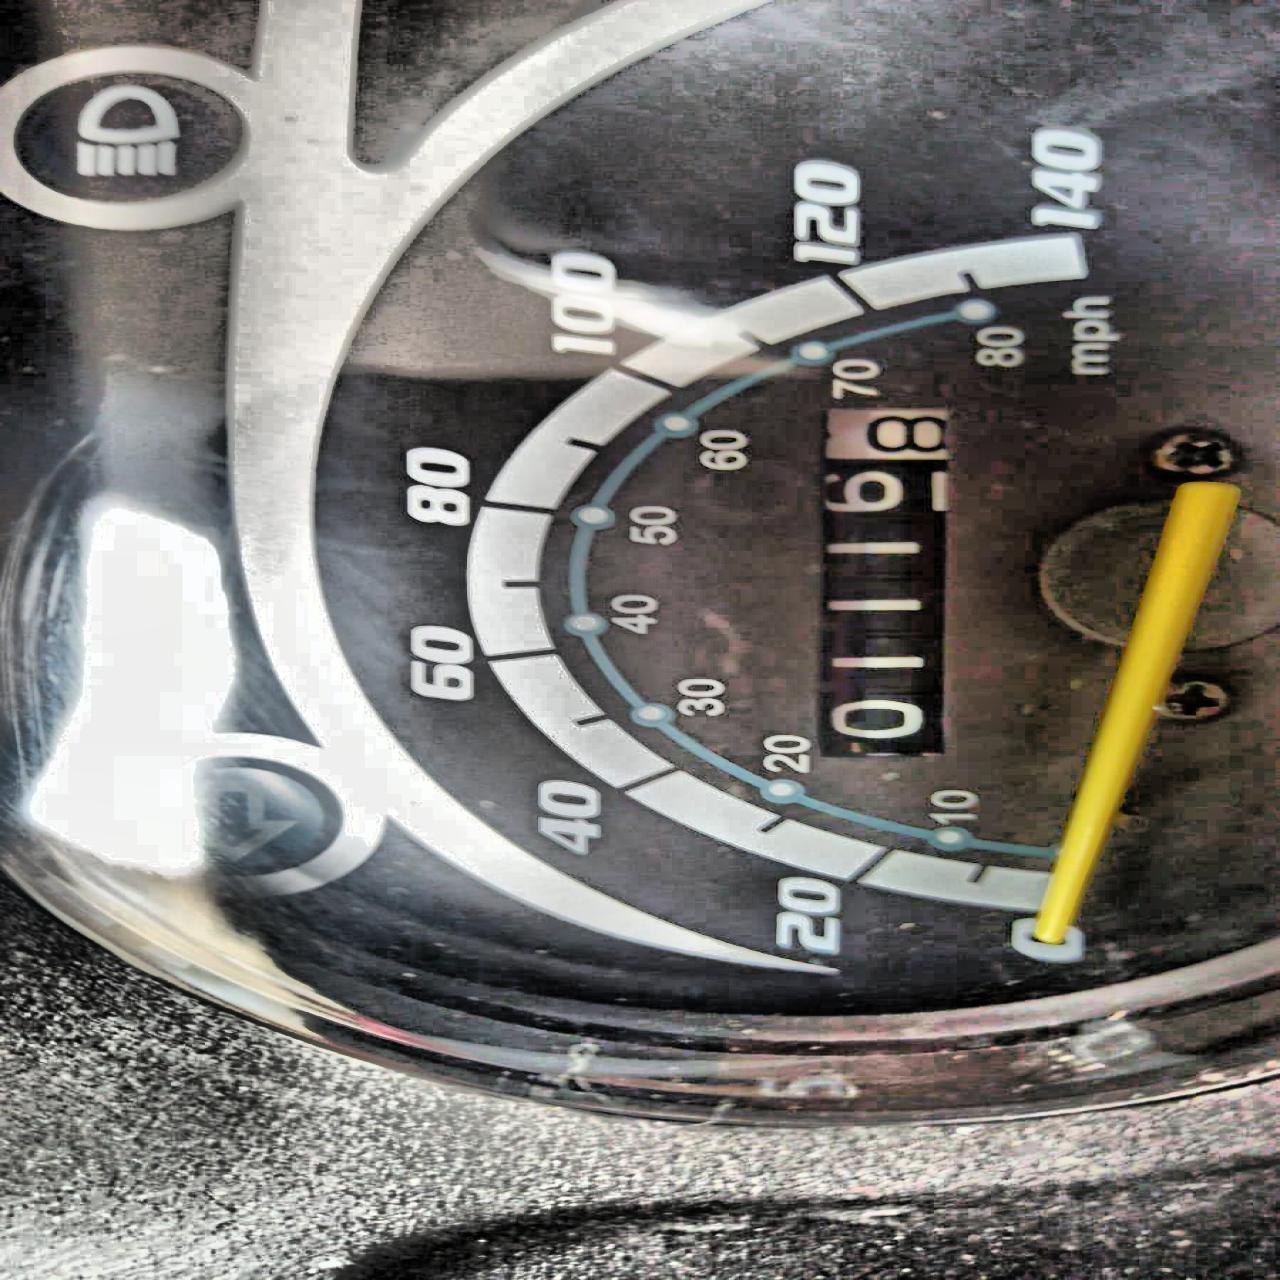0: (823, 697, 927, 740)
1: (817, 592, 939, 618), (823, 652, 945, 673), (821, 537, 934, 558)
6: (811, 468, 910, 513)
8: (853, 408, 947, 456)
odometer: (808, 397, 962, 756)
